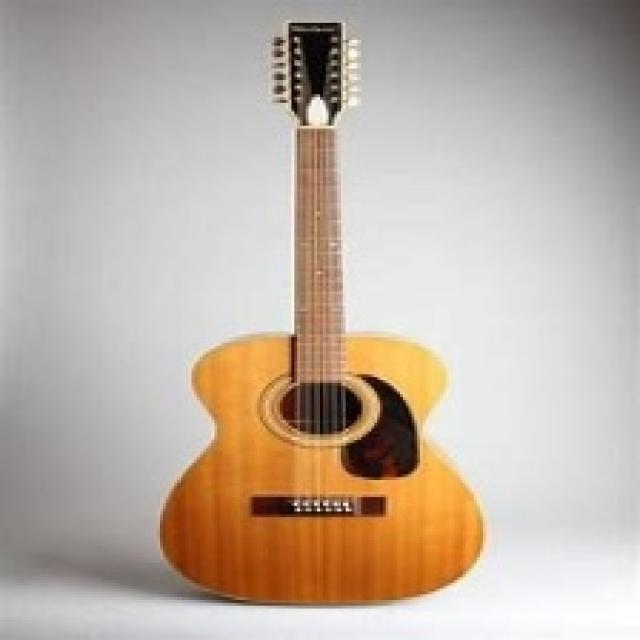guitar: (155, 20, 486, 609)
